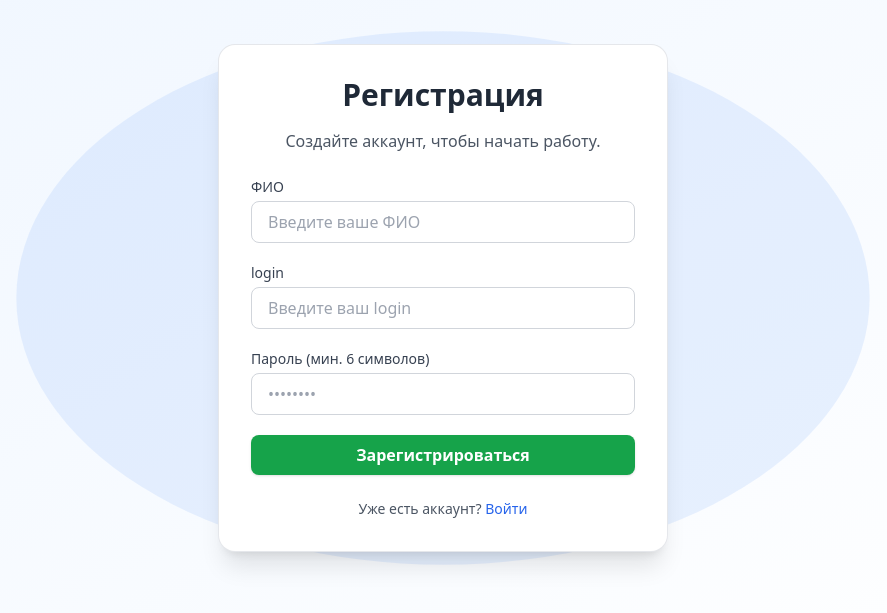
Test: Register integration flows › successful registration flow 0
Type "Иван Иванов" into the field with test id "register-full-name".
click(443, 222); type("Иван Иванов")  # box x1=251 y1=201 x2=635 y2=243
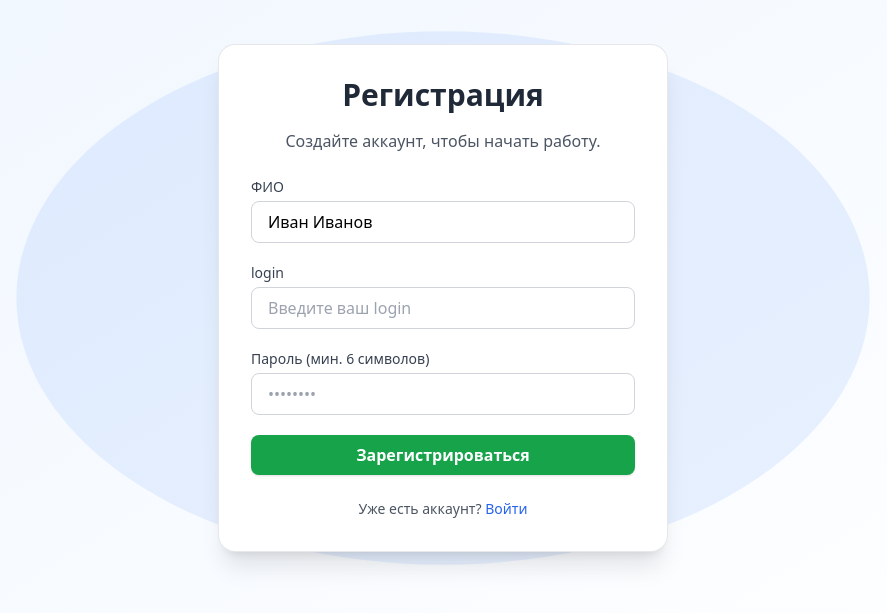
Type "ivan" into the field with test id "register-login".
click(443, 308); type("ivan")  # box x1=251 y1=287 x2=635 y2=329
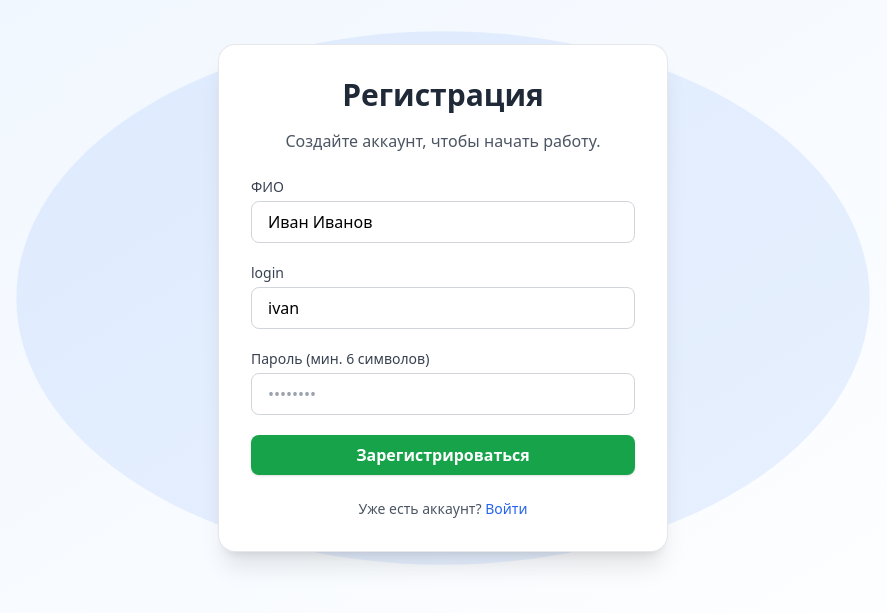
Type "123456" into the password field with test id "register-password".
click(443, 394); type("123456")  # box x1=251 y1=373 x2=635 y2=415
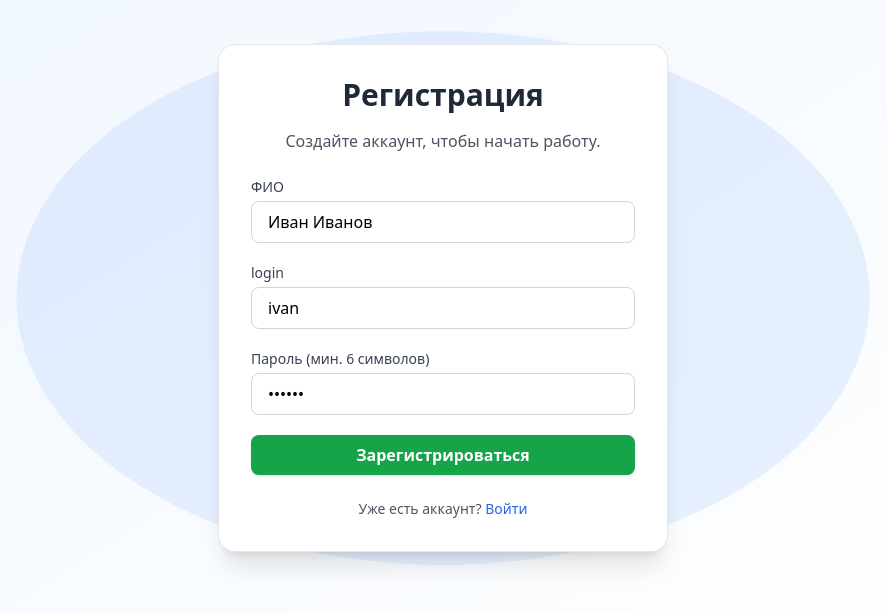
Click the button with test id "register-submit".
click(443, 455)  # box x1=251 y1=435 x2=635 y2=475
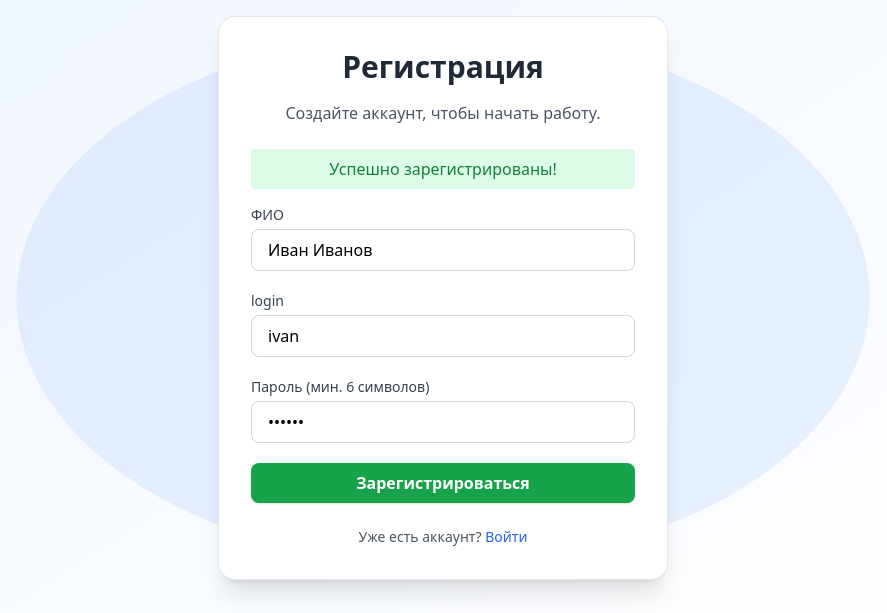
Result: the text "Успешно зарегистрированы!" is shown at x1=251 y1=149 x2=635 y2=189
